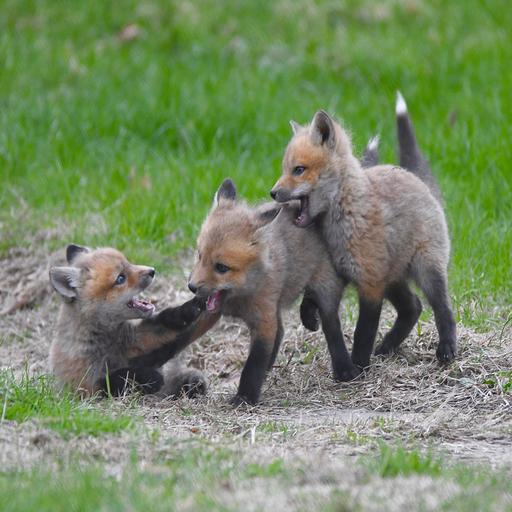Fox: (185, 131, 386, 416), (269, 87, 460, 379), (46, 239, 217, 410)
